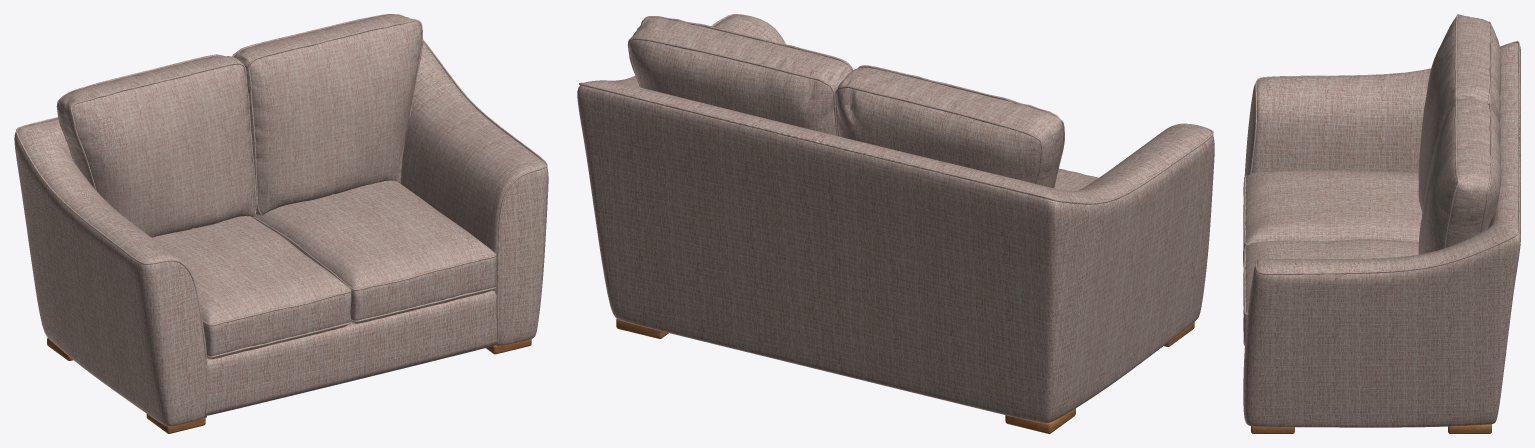
The model's file is twoSeat.glb.
The picture shows the model from 3 angles, left to right: view 1: azimuth 30°, elevation 25°; view 2: azimuth 150°, elevation 25°; view 3: azimuth 270°, elevation 25°; orthographic projection. The views are drawn at different scales.
Parts seen in each view (by area): view 1: back, handrail, uploads_files_2672634_Estelio_BABILON_5+10_OBJ.002, Cube.004, circle, legs; view 2: handrail, back, circle, legs, uploads_files_2672634_Estelio_BABILON_5+10_OBJ.002; view 3: handrail, back, uploads_files_2672634_Estelio_BABILON_5+10_OBJ.002, circle, legs.
Boxes of the visible parts, bbox=[...] form: back: bbox=[56, 14, 422, 237]; handrail: bbox=[14, 42, 548, 426]; uploads_files_2672634_Estelio_BABILON_5+10_OBJ.002: bbox=[152, 180, 496, 359]; Cube.004: bbox=[207, 290, 497, 415]; circle: bbox=[15, 39, 547, 417]; legs: bbox=[47, 337, 531, 433]; handrail: bbox=[577, 14, 1214, 423]; back: bbox=[627, 16, 1064, 188]; circle: bbox=[579, 14, 1213, 204]; legs: bbox=[616, 319, 1194, 433]; uploads_files_2672634_Estelio_BABILON_5+10_OBJ.002: bbox=[1054, 168, 1098, 190]; handrail: bbox=[1243, 42, 1520, 427]; back: bbox=[1418, 14, 1501, 254]; uploads_files_2672634_Estelio_BABILON_5+10_OBJ.002: bbox=[1243, 170, 1422, 345]; circle: bbox=[1249, 41, 1520, 274]; legs: bbox=[1251, 424, 1491, 433].
Size of the model in its own units: 1.6 by 0.9526 by 0.9471.
2 materials, 2 textured.
